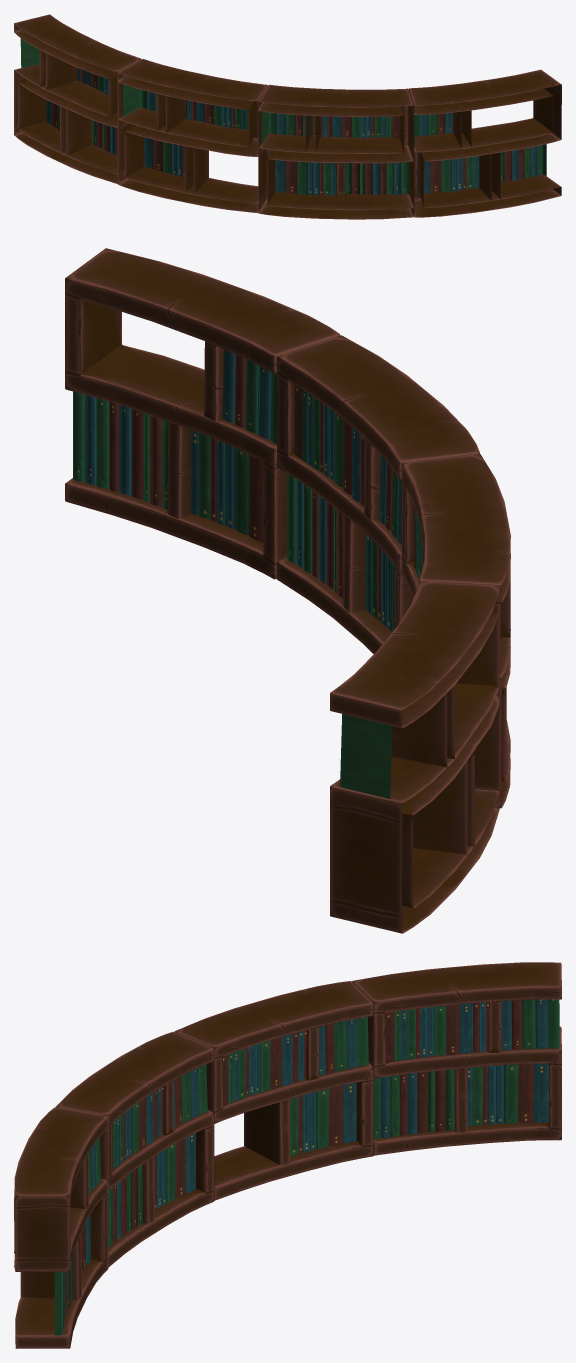
File: SM_BookShelf_03_Full.fbx
The picture shows the model from 3 angles, top to bottom: view 1: azimuth 30°, elevation 25°; view 2: azimuth 150°, elevation 25°; view 3: azimuth 270°, elevation 25°; orthographic projection. The views are drawn at different scales.
Visible parts, largest first — view 1: SM_BookShelf_03_Full_LOD0; view 2: SM_BookShelf_03_Full_LOD0; view 3: SM_BookShelf_03_Full_LOD0.
Part boxes in pixels (x1=…): SM_BookShelf_03_Full_LOD0: x1=14, y1=14, x2=561, y2=219; SM_BookShelf_03_Full_LOD0: x1=65, y1=248, x2=510, y2=933; SM_BookShelf_03_Full_LOD0: x1=14, y1=962, x2=561, y2=1348.
Size of what is drawn, in the model's own units: 6.2 by 1.9 by 6.15.
